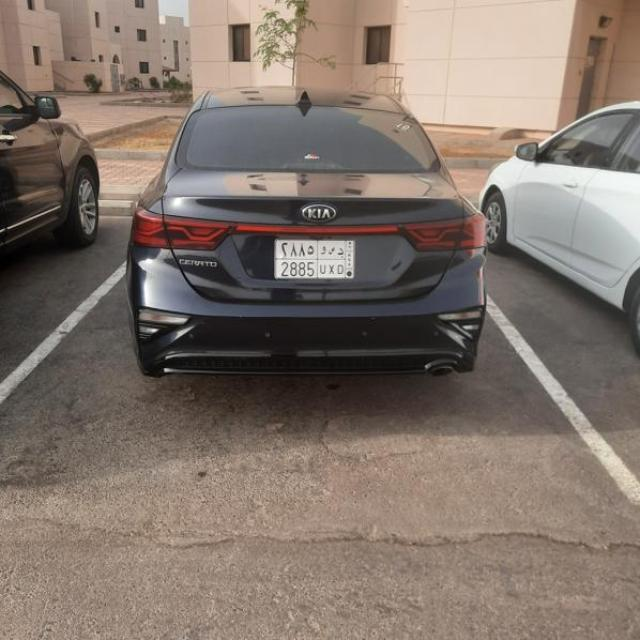license_plate: (275, 239, 355, 282)
